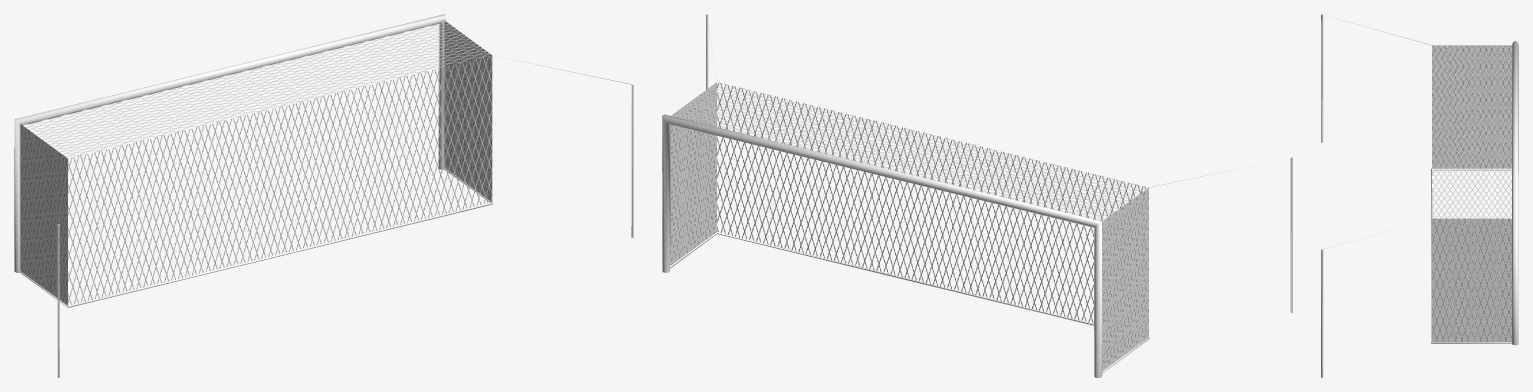
Rendered from soccerGoal.obj.
The picture shows the model from 3 angles, left to right: view 1: azimuth 30°, elevation 25°; view 2: azimuth 150°, elevation 25°; view 3: azimuth 270°, elevation 25°; orthographic projection. The views are drawn at different scales.
Parts seen in each view (by area): view 1: NetCube, soccerGoal; view 2: NetCube, soccerGoal; view 3: NetCube, soccerGoal.
Part boxes in pixels (box(x1,y1,x2,y2)): NetCube: box(20, 21, 492, 305); soccerGoal: box(14, 14, 633, 377); NetCube: box(670, 82, 1148, 371); soccerGoal: box(662, 14, 1292, 377); NetCube: box(1432, 45, 1512, 342); soccerGoal: box(1321, 14, 1518, 377).
Bounding box in the file's own units: 10.11 × 2.62 × 3.58.
